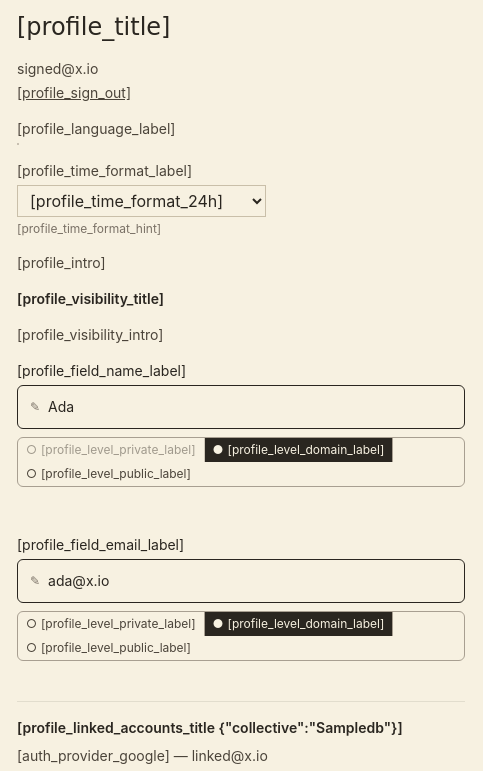
#618 — /profile: no unmarked email in a capture › with redaction engaged and the profile email being edited, every email on the page is marked
Expected: the list item with test id "profile-linked-identity-eu-1" is shown, [17,747,268,764]
Step 1. Click the button with test id "profile-email-edit" → x=111, y=590, box [17,559,465,603]
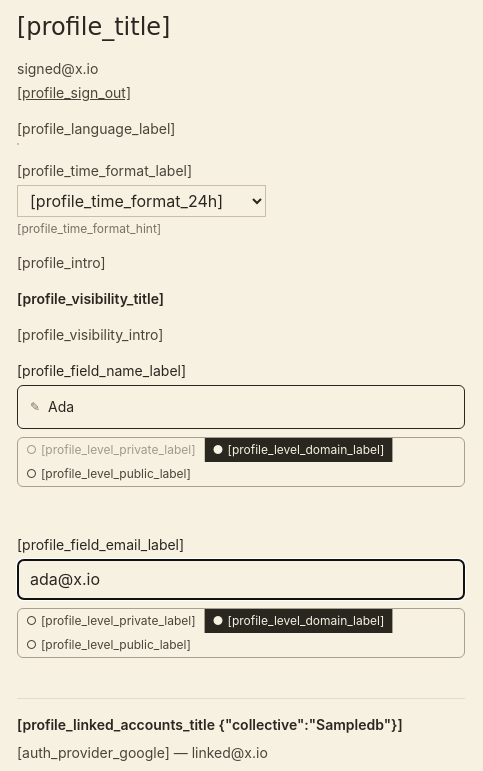
Expected: the field with test id "profile-email" is shown, [17,559,465,600]
